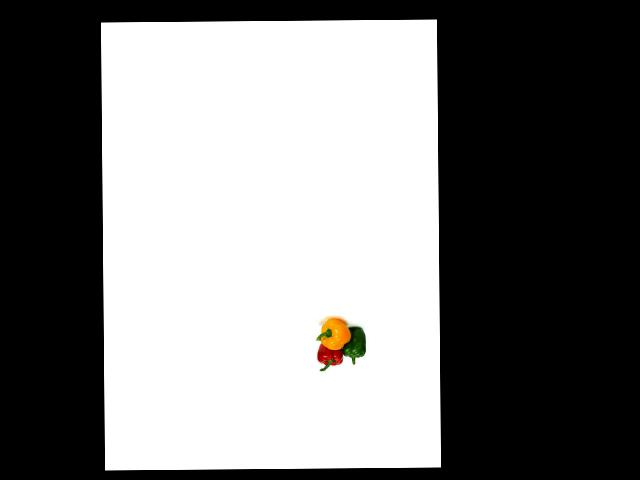bell_pepper: (312, 339, 347, 374)
